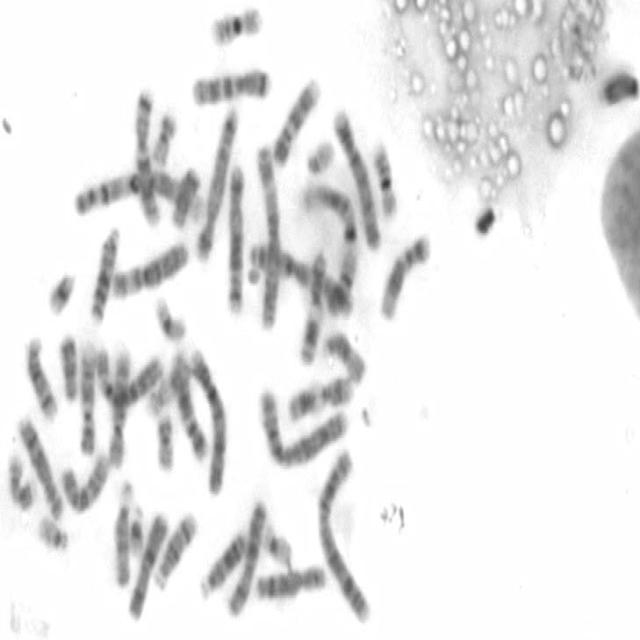A1: (296, 174, 359, 322), (70, 158, 204, 226)
A2: (313, 440, 374, 626), (255, 374, 353, 471)
A3: (245, 236, 355, 319), (253, 138, 283, 332)
B4: (329, 99, 384, 255), (187, 343, 229, 497)
B5: (192, 99, 241, 264), (222, 157, 247, 317)
C10: (56, 442, 112, 516), (106, 338, 134, 471)
C11: (295, 244, 327, 365), (284, 370, 354, 424)
C12: (376, 225, 433, 323), (168, 343, 210, 463)
C6: (108, 234, 190, 302), (91, 340, 164, 409)
C7: (130, 81, 161, 231), (188, 62, 272, 107)
C8: (14, 408, 64, 520), (253, 558, 328, 604)
C9: (270, 67, 323, 169), (76, 337, 98, 457)
D13: (196, 524, 249, 602), (86, 220, 121, 324)
D14: (150, 503, 199, 592), (21, 328, 60, 422)
D15: (319, 324, 368, 386), (110, 477, 134, 590)
E16: (207, 0, 264, 50), (370, 138, 400, 221)
E17: (146, 360, 187, 418), (4, 449, 38, 513)
E18: (168, 158, 202, 230), (55, 325, 80, 404)
F19: (151, 290, 188, 344), (259, 517, 294, 569)
F20: (148, 104, 178, 168), (153, 407, 174, 472)
G21: (42, 264, 78, 319), (126, 497, 145, 559)
G22: (34, 510, 70, 553), (302, 132, 335, 177)
X: (222, 492, 268, 618), (124, 502, 170, 623)
